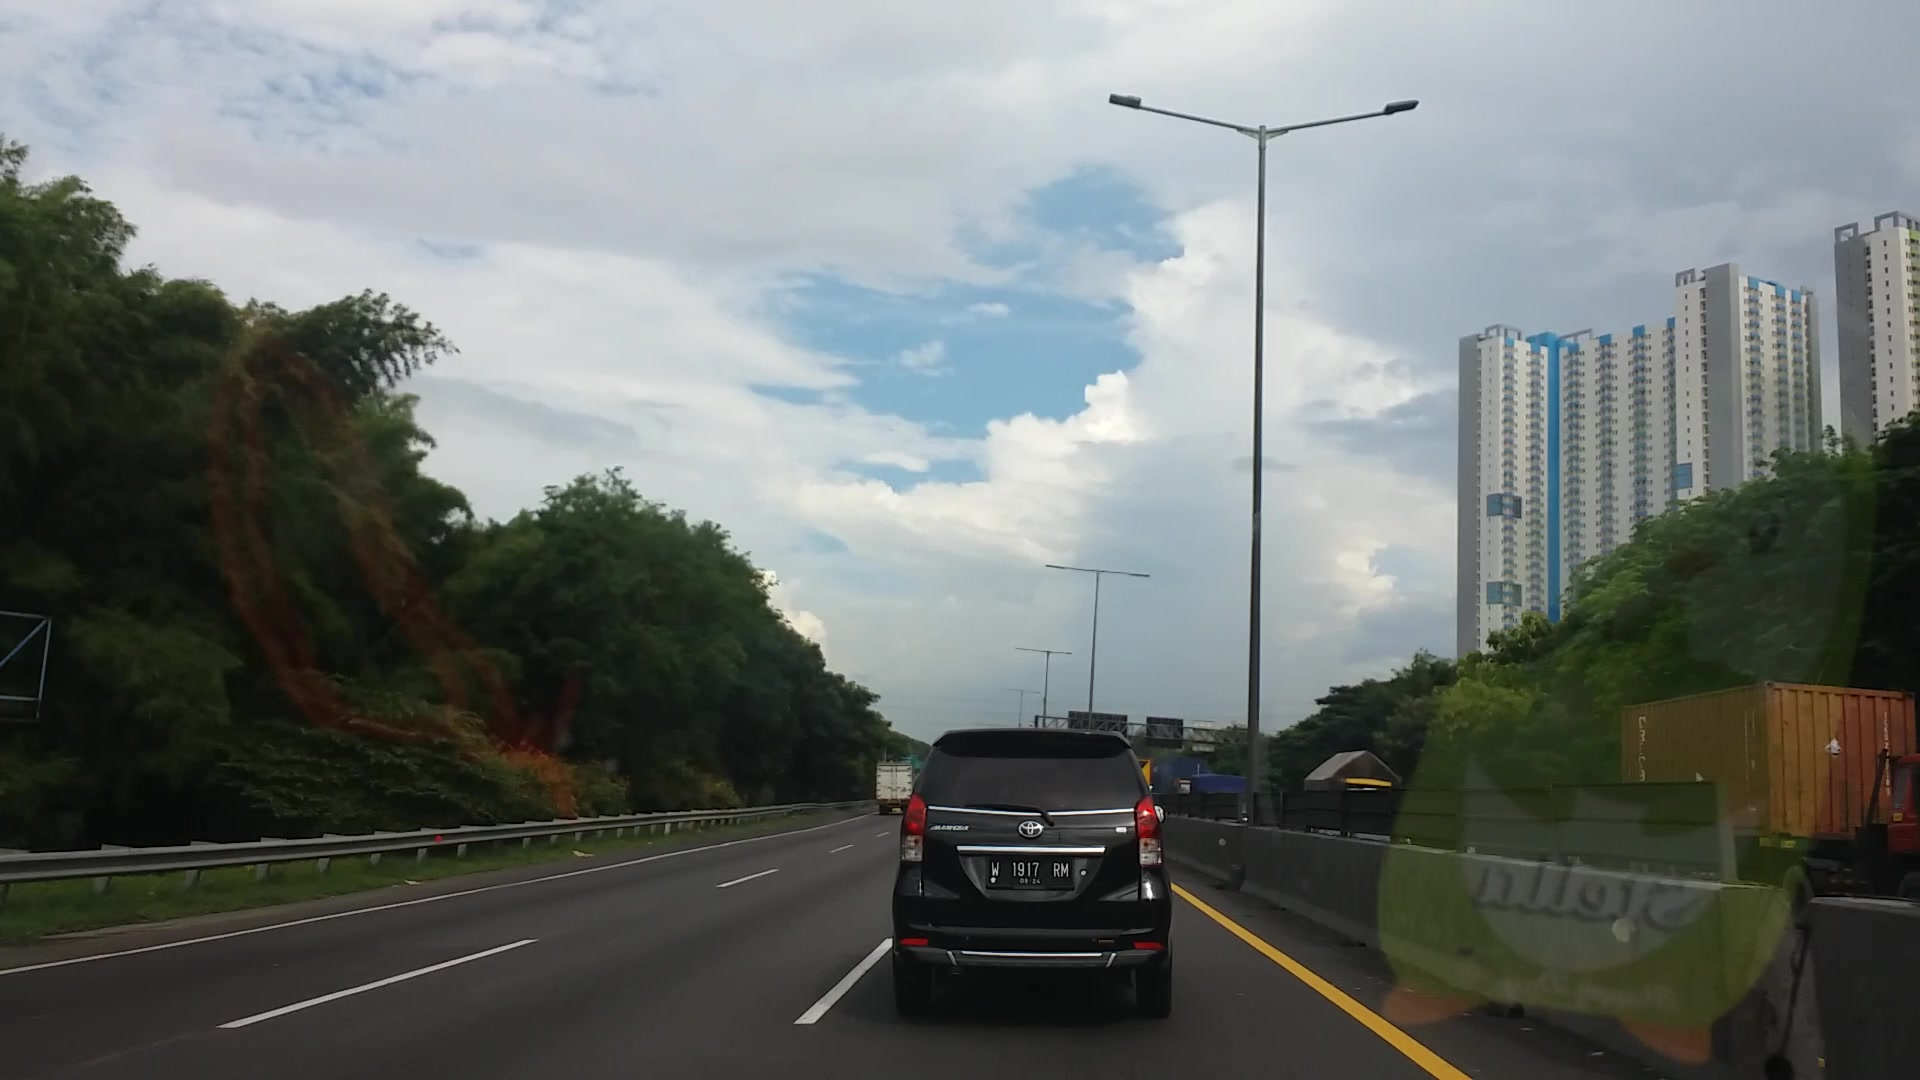plate_positive: (986, 858, 1071, 886)
